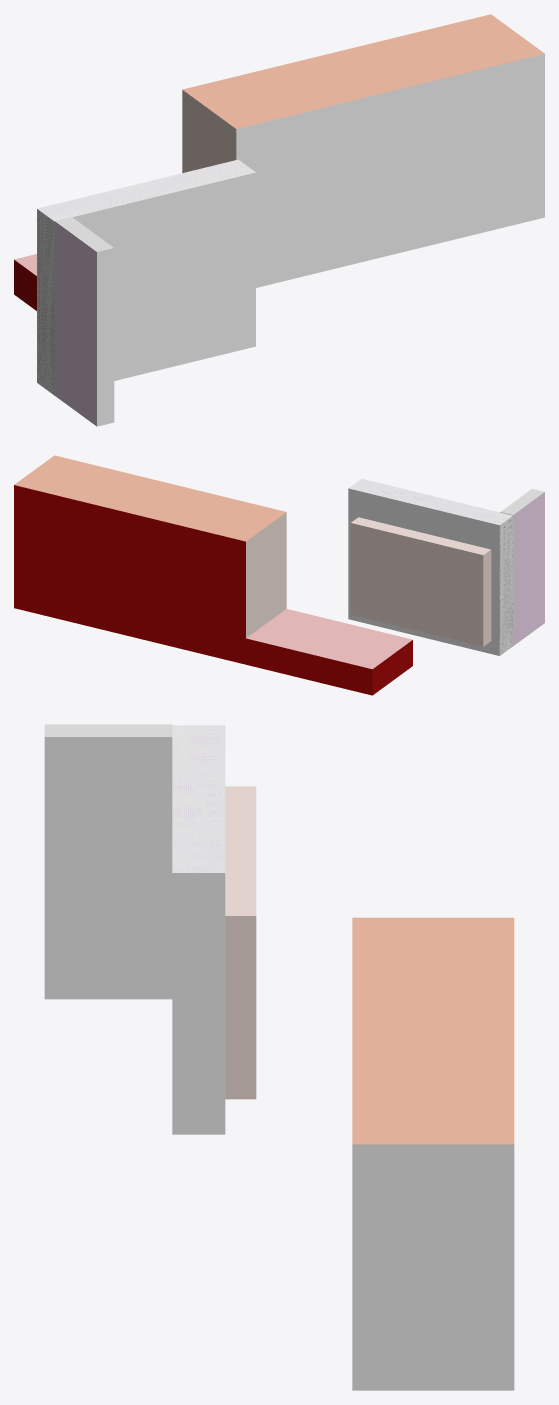
The model's file is miran.glb.
The picture shows the model from 3 angles, top to bottom: view 1: azimuth 30°, elevation 25°; view 2: azimuth 150°, elevation 25°; view 3: azimuth 270°, elevation 25°; orthographic projection. The views are drawn at different scales.
Visible parts, largest first — view 1: SketchUp.005, SketchUp, SketchUp.006, SketchUp.002, SketchUp.003, SketchUp.008, SketchUp.004, SketchUp.009, SketchUp.001; view 2: SketchUp.007, SketchUp.011, SketchUp.006, SketchUp, SketchUp.010, SketchUp.002, SketchUp.008, SketchUp.003, SketchUp.004, SketchUp.009, SketchUp.001; view 3: SketchUp, SketchUp.005, SketchUp.006, SketchUp.011, SketchUp.003, SketchUp.001.
Boxes of the visible parts, x1,y1,x2,y2 form: SketchUp.005: (236,53,544,287); SketchUp: (73,172,255,426); SketchUp.006: (182,14,544,128); SketchUp.002: (54,221,96,426); SketchUp.003: (37,159,255,221); SketchUp.008: (182,90,236,172); SketchUp.004: (37,209,54,395); SketchUp.009: (14,260,36,310); SketchUp.001: (55,217,113,251); SketchUp.007: (14,485,372,695); SketchUp.011: (350,517,491,646); SketchUp.006: (14,455,285,541); SketchUp: (348,488,512,655); SketchUp.010: (246,609,412,669); SketchUp.002: (513,492,544,645); SketchUp.008: (246,512,286,637); SketchUp.003: (348,478,512,525); SketchUp.004: (499,516,512,655); SketchUp.009: (372,640,412,694); SketchUp.001: (501,488,544,514); SketchUp: (44,737,225,1134); SketchUp.005: (352,1144,514,1390); SketchUp.006: (352,917,514,1144); SketchUp.011: (225,786,256,1099); SketchUp.003: (172,725,225,872); SketchUp.001: (44,724,172,736).
Bounding box in the file's own units: 29.28 × 8.88 × 14.4.
